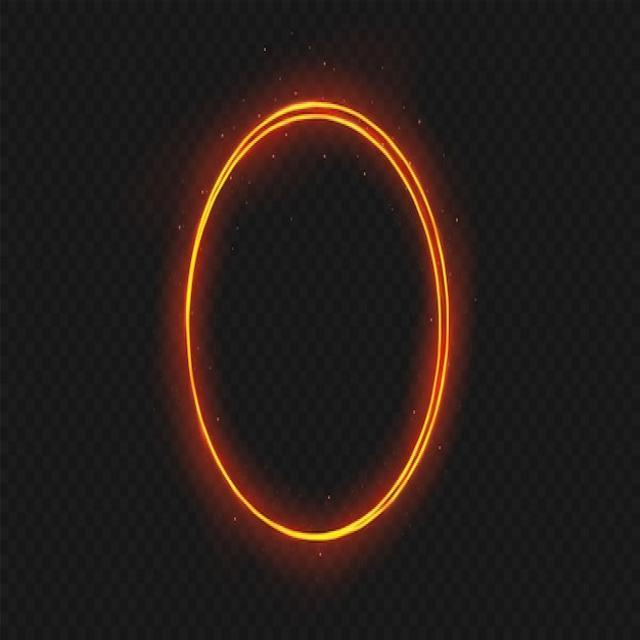Circle: (185, 104, 449, 550)
